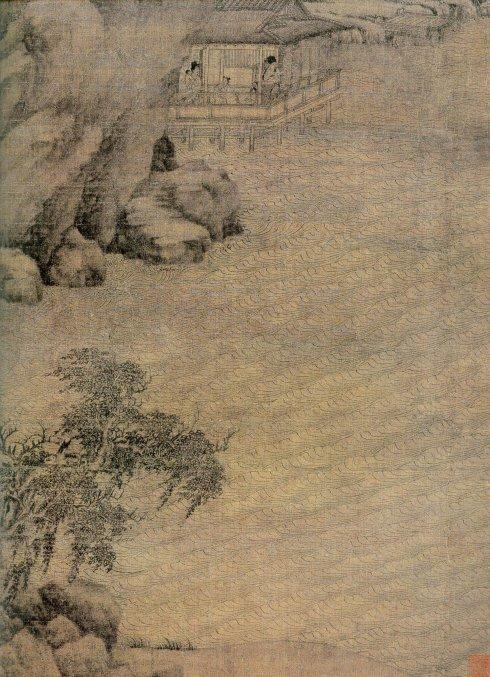booth: (168, 6, 353, 146)
man: (255, 50, 284, 100), (181, 66, 208, 106)
river: (154, 115, 490, 645)
tree: (7, 356, 225, 588)
